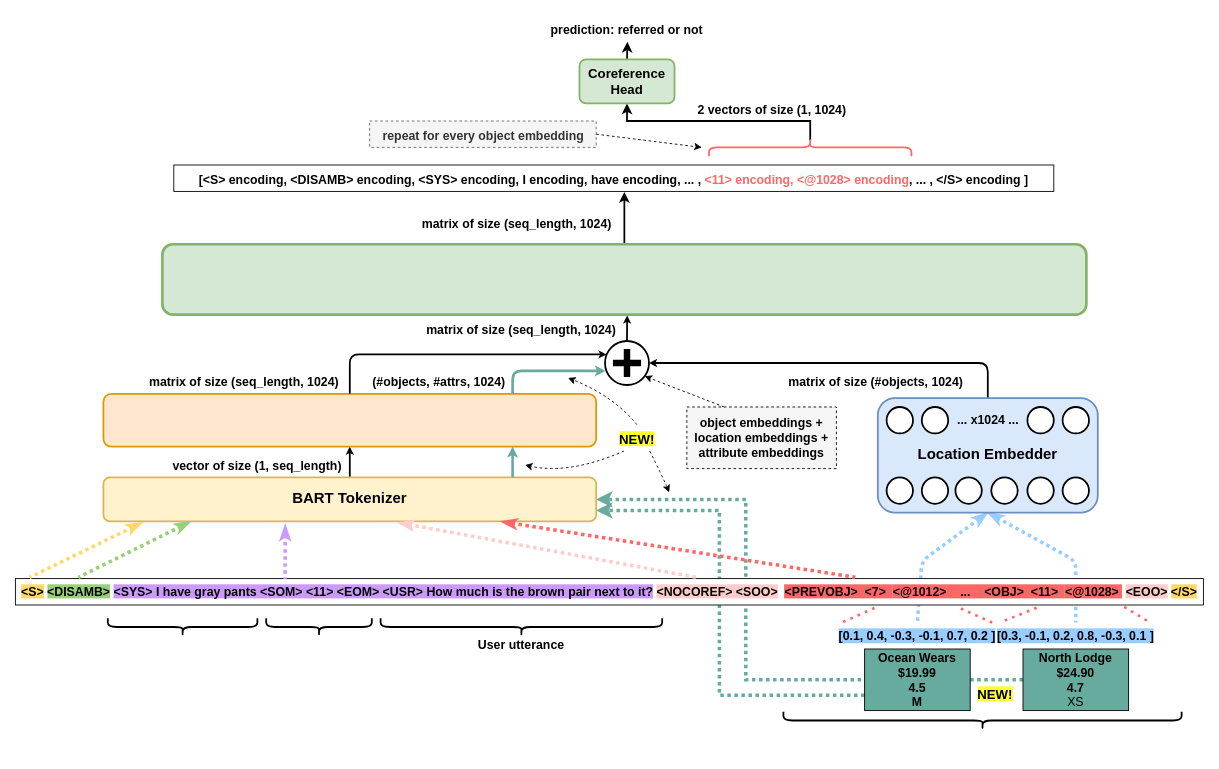
The diagram is 1219 pixels wide and 769 high, and some of its shapes have lost their labels. Here are the shapes that lost their labels. From the top down, the box of each, then its label:
(161, 242, 1087, 315): BART Encoder
(102, 392, 597, 447): BART Embedder
(106, 617, 258, 636): System utterance
(265, 617, 372, 636): Multimodal context
(782, 710, 1182, 730): Scene context: object IDs + encoded locations + non-visual attributes
